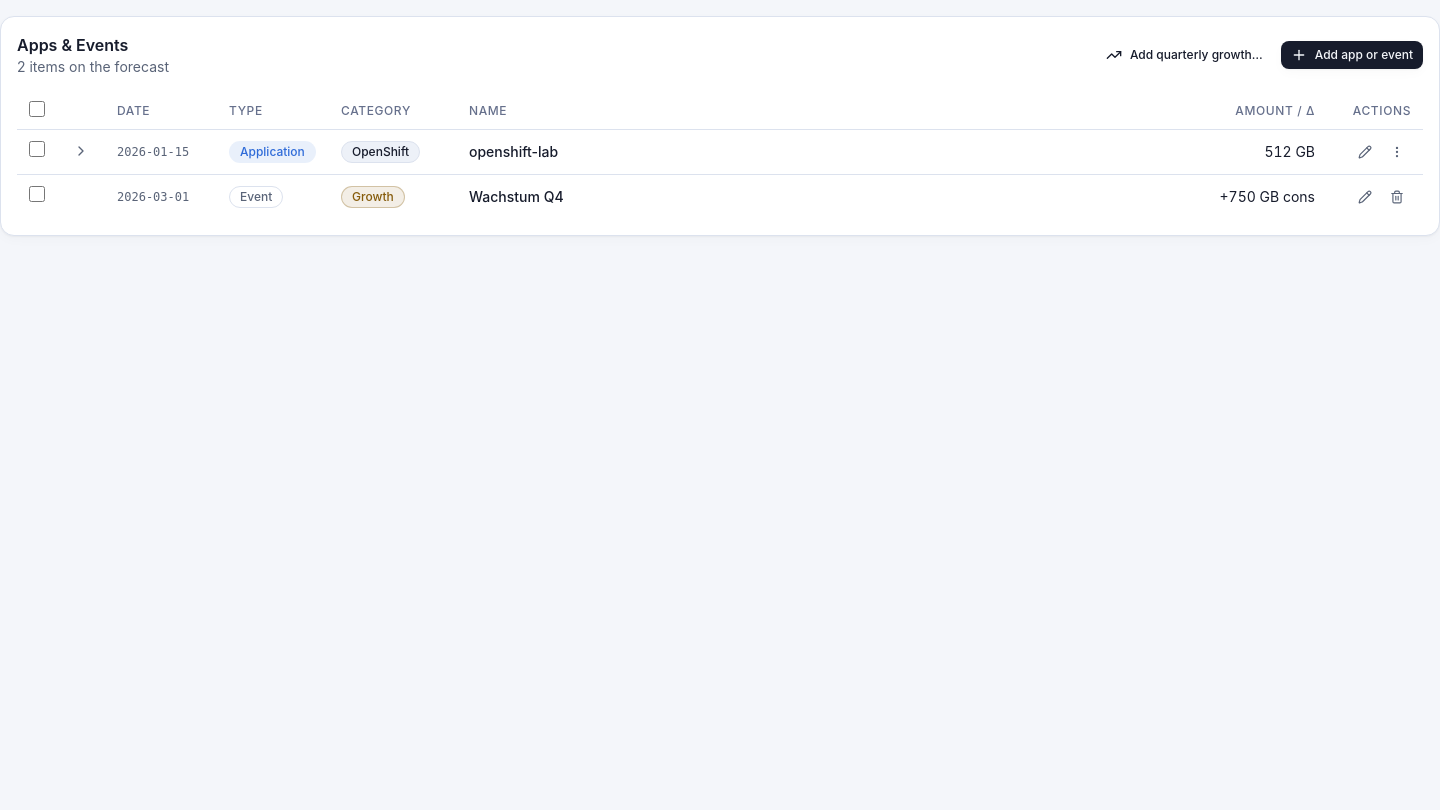
ItemsTab — bulk date shift (#256) › previews the old → new date for every selected entry before applying
Click the checkbox named "Select all apps and events" at (37, 109), box 29,101 -> 45,117
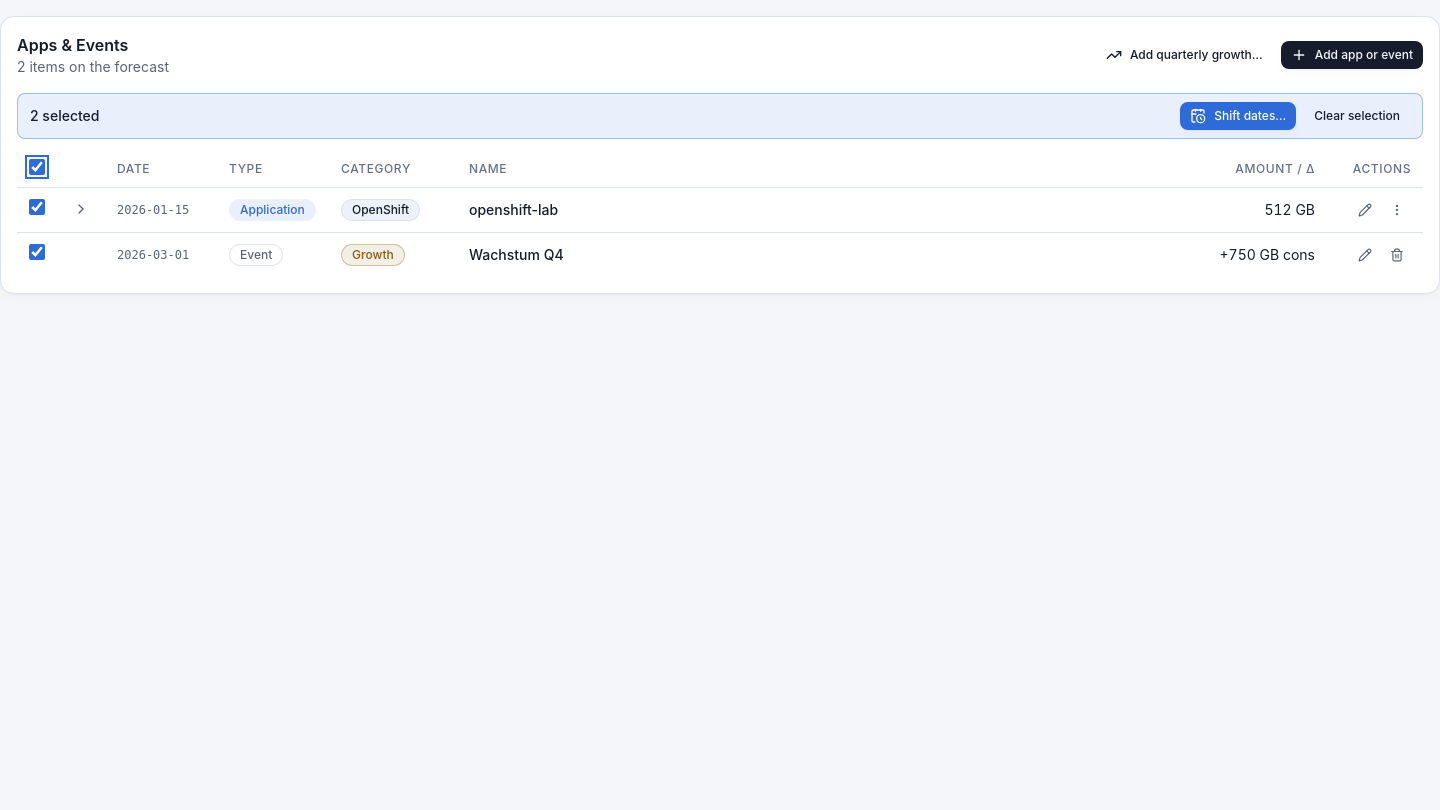
Click the button "Shift dates…" at (1238, 116), box 1180,102 -> 1296,130
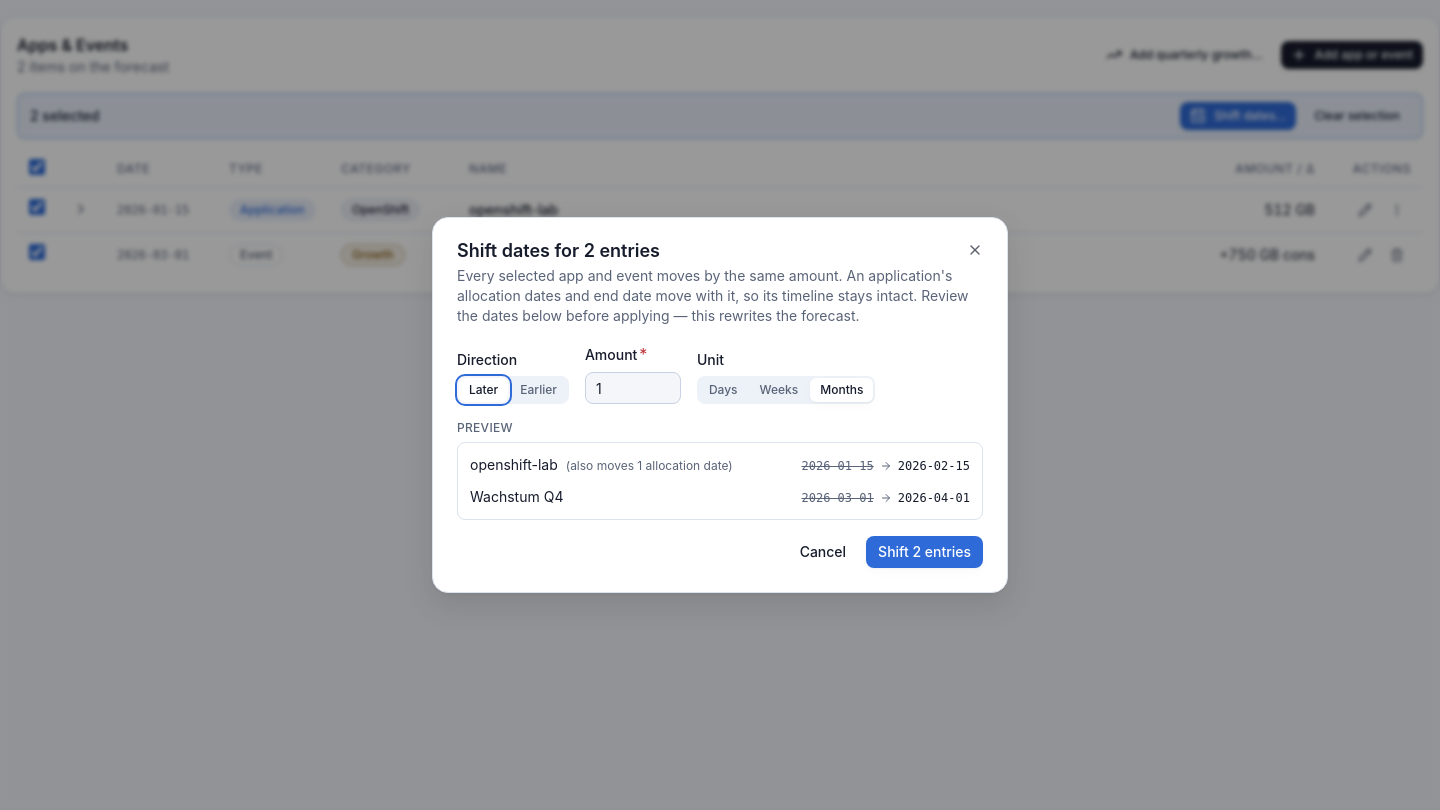
Expected: the list item "openshift-lab" shows "2026-01-15", 802,459 -> 874,473
Expected: the list item "openshift-lab" shows "2026-02-15", 898,459 -> 970,473
Expected: the list item "Wachstum Q4" shows "2026-03-01", 802,491 -> 874,505
